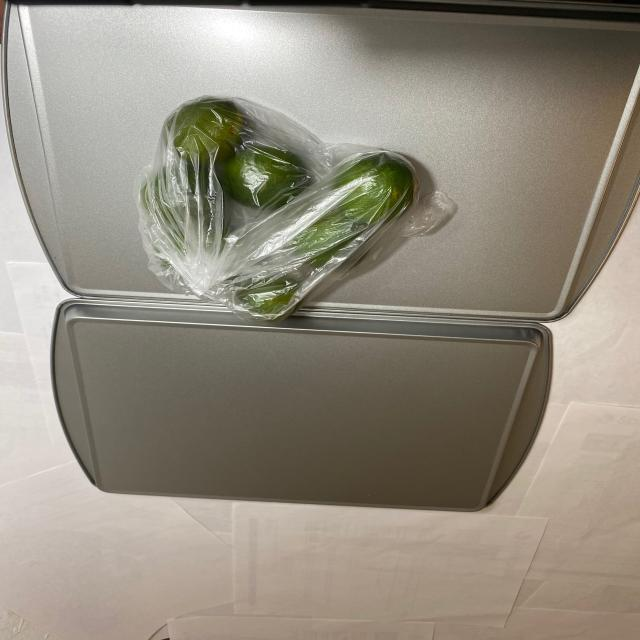lemon: (152, 99, 416, 319)
